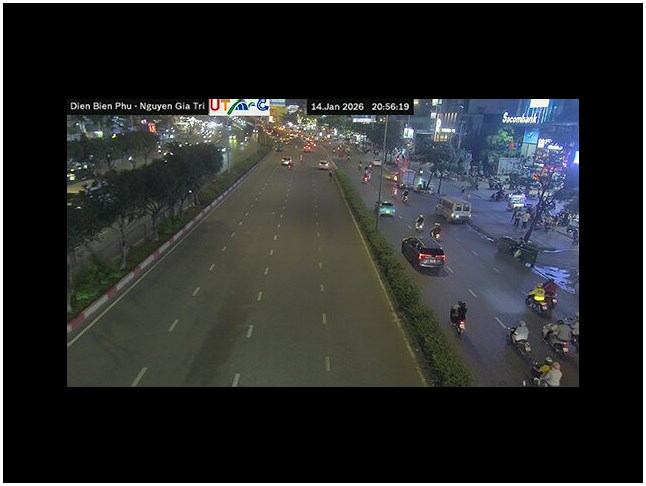car: (401, 233, 447, 273), (450, 201, 472, 223), (378, 202, 397, 217), (279, 154, 293, 168), (317, 157, 330, 171)
motorbike: (528, 357, 567, 386), (543, 319, 571, 358), (504, 318, 531, 355), (448, 300, 470, 335), (525, 283, 548, 315), (542, 277, 560, 311), (428, 219, 443, 240), (411, 213, 427, 232)
